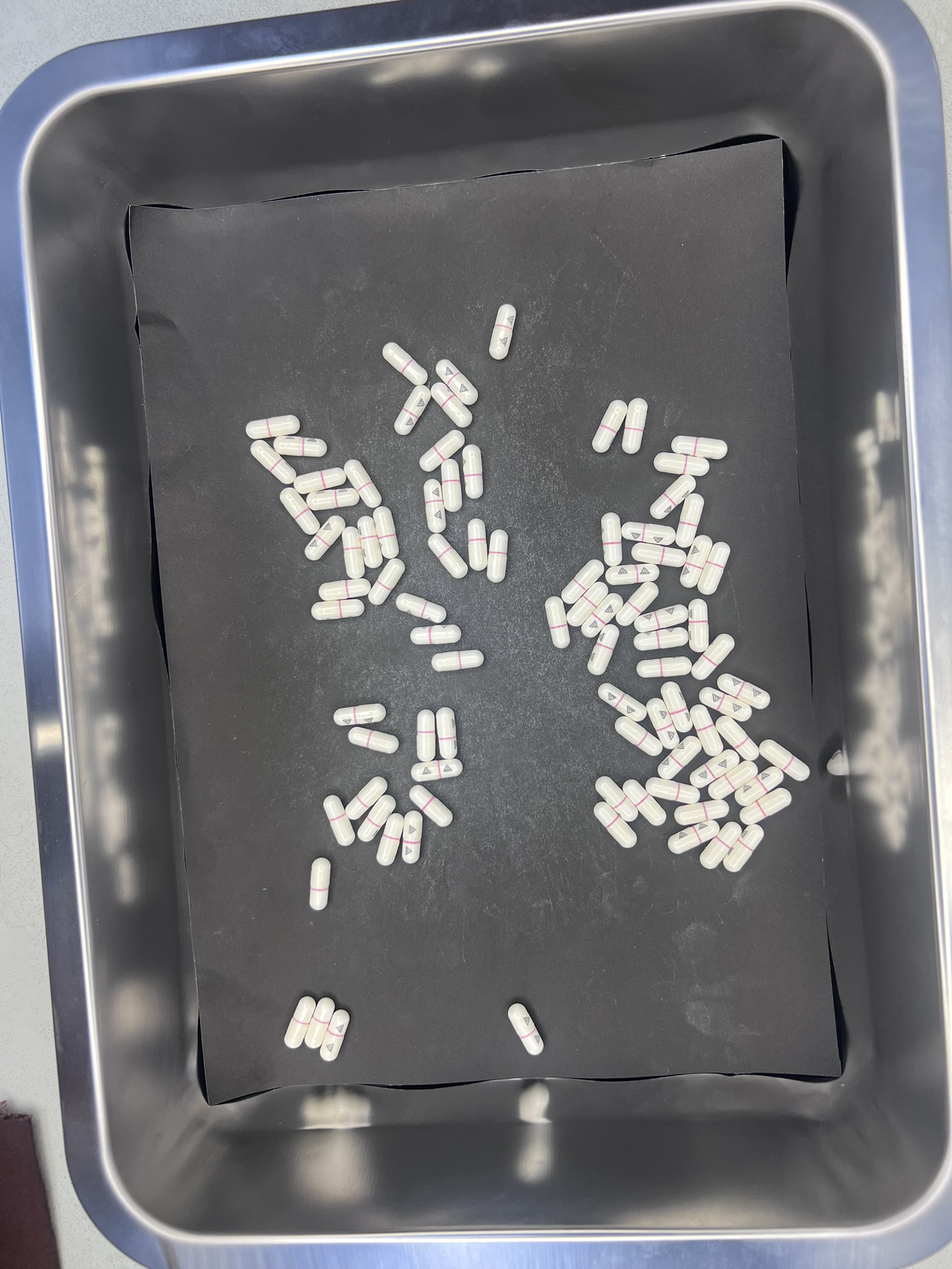Capsule: (759, 738, 813, 784), (430, 378, 474, 428), (690, 747, 742, 789), (650, 473, 697, 519), (382, 342, 430, 387), (594, 801, 638, 850), (697, 686, 753, 724), (565, 580, 610, 627), (435, 357, 479, 405), (343, 459, 385, 509), (707, 758, 758, 799), (738, 787, 793, 825), (250, 440, 296, 485), (579, 592, 624, 638), (691, 633, 735, 680), (507, 1003, 545, 1057), (615, 582, 659, 628), (420, 430, 466, 474), (344, 776, 388, 822), (560, 558, 604, 604), (623, 780, 666, 827), (279, 488, 321, 536), (723, 824, 765, 872), (614, 716, 663, 757), (594, 776, 638, 821), (716, 674, 771, 710), (410, 784, 454, 828), (698, 824, 741, 869), (306, 514, 347, 561), (428, 533, 469, 580), (592, 400, 628, 453), (697, 541, 731, 597), (659, 737, 704, 779), (394, 386, 431, 436), (715, 715, 756, 760), (661, 682, 694, 737), (735, 770, 784, 807), (600, 684, 649, 720), (669, 820, 719, 855), (679, 536, 712, 589), (359, 795, 396, 842), (692, 702, 724, 756), (368, 558, 404, 605), (395, 591, 446, 624), (284, 997, 316, 1049), (646, 697, 680, 745), (675, 493, 704, 548), (635, 604, 688, 634), (589, 625, 620, 676), (306, 997, 337, 1048), (293, 467, 349, 495), (646, 778, 700, 807), (325, 795, 355, 847), (321, 1009, 350, 1062), (489, 304, 517, 358), (244, 415, 301, 440), (348, 726, 397, 755), (674, 800, 728, 826), (671, 435, 727, 460), (631, 543, 684, 569), (376, 815, 403, 866), (653, 452, 710, 476), (622, 521, 676, 546), (373, 507, 399, 558), (544, 596, 569, 649), (273, 435, 328, 459), (624, 398, 648, 452), (357, 515, 381, 568), (431, 648, 484, 672), (605, 563, 660, 586), (312, 599, 367, 622), (635, 628, 687, 652), (318, 579, 370, 603), (307, 487, 359, 511), (411, 759, 462, 783), (687, 599, 709, 654), (342, 527, 365, 579), (334, 703, 386, 726), (487, 529, 509, 583), (400, 811, 423, 862), (601, 512, 623, 565), (309, 857, 331, 910), (638, 657, 691, 679), (462, 444, 483, 499), (423, 479, 445, 531), (441, 459, 462, 512), (409, 624, 462, 645), (467, 519, 488, 571), (437, 709, 458, 760), (416, 709, 437, 760)
